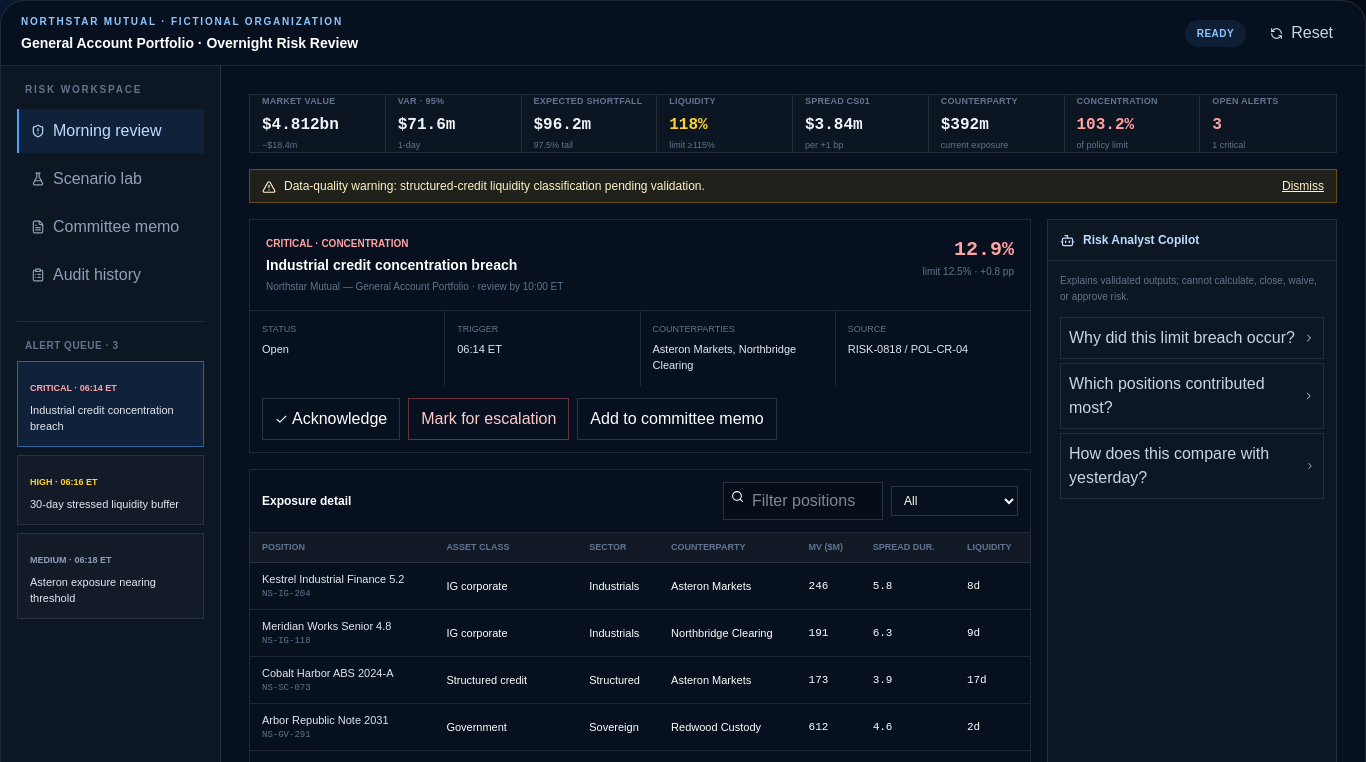
Risk Analyst Copilot simulation › filters positions and exposes the empty state
Type "no such position" into the field named "Search positions". click: (803,500)
box: [723, 482, 883, 520]
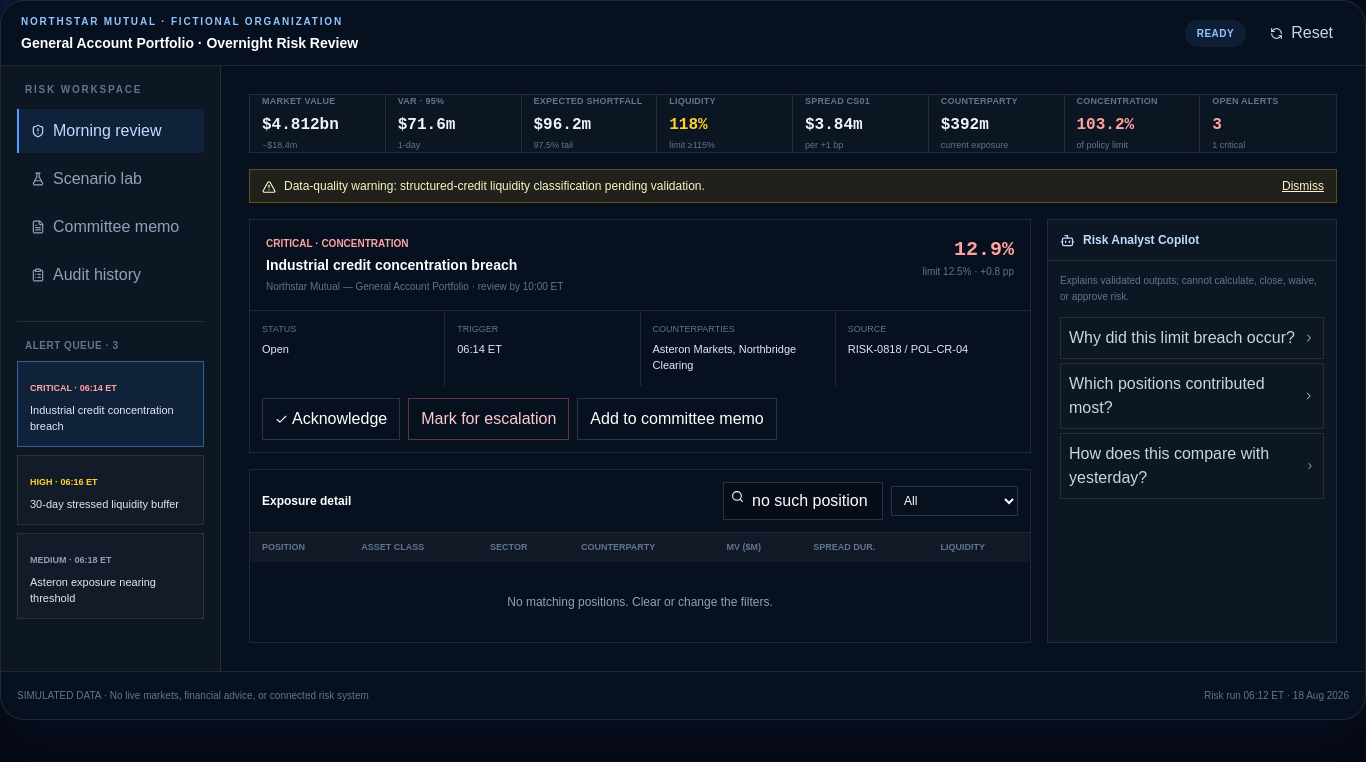
Result: the text "No matching positions. Clear or change the filters." is shown at [507, 595, 773, 609]
Replace the text in the field named "Search positions" with "Kestrel". click: (803,500)
box: [723, 482, 883, 520]
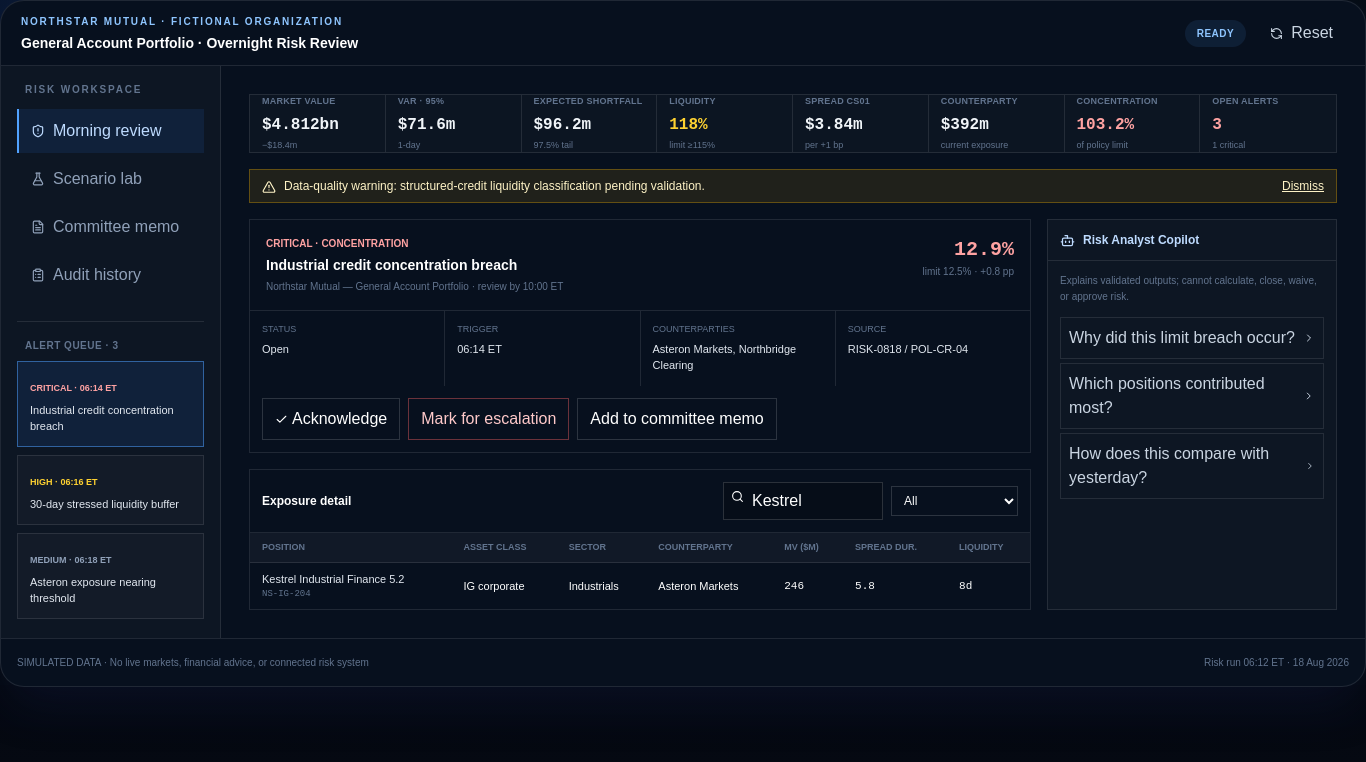
Result: the text "Kestrel Industrial Finance 5.2" is shown at [262, 573, 404, 585]
